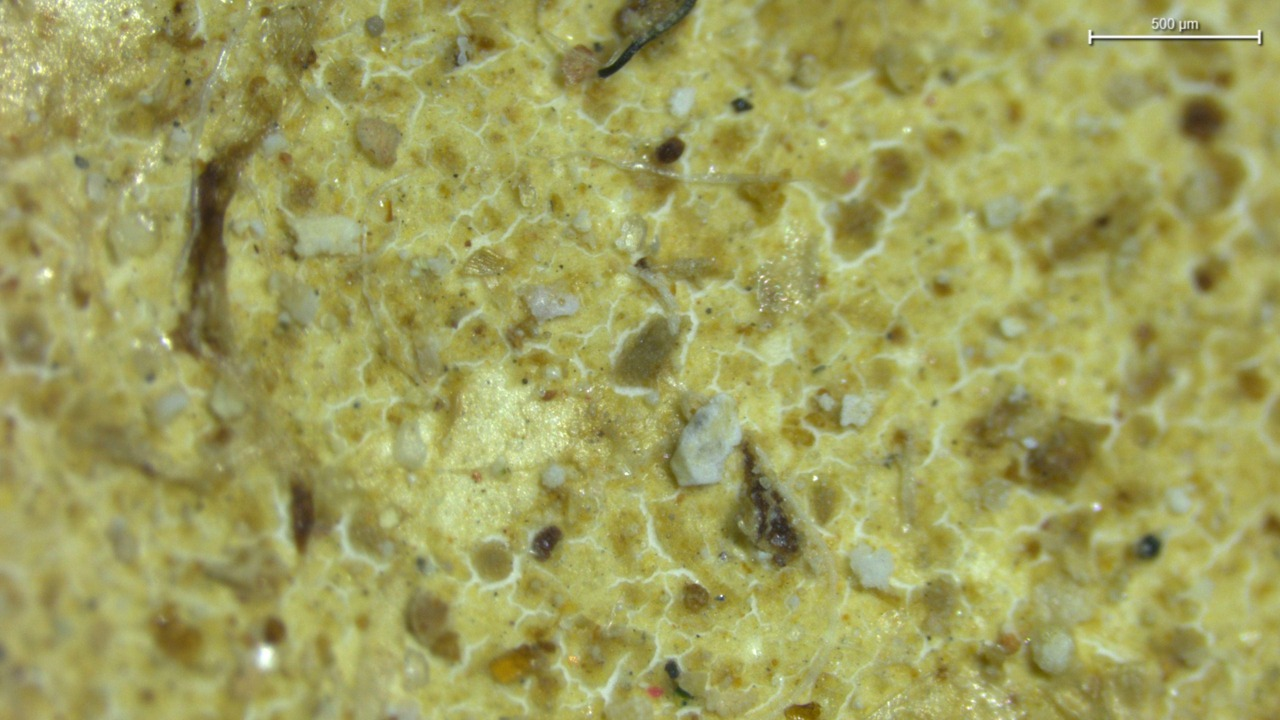microplastic_fragment: (671, 393, 742, 486), (292, 215, 361, 257), (518, 284, 580, 320), (851, 544, 894, 589), (1033, 632, 1074, 675)
